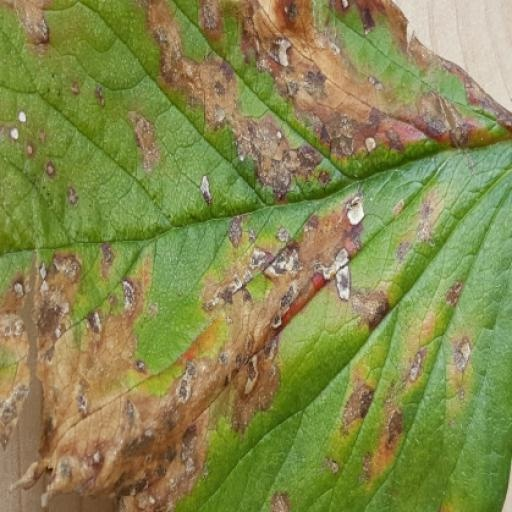Angular Leafspot: (0, 0, 511, 511)
